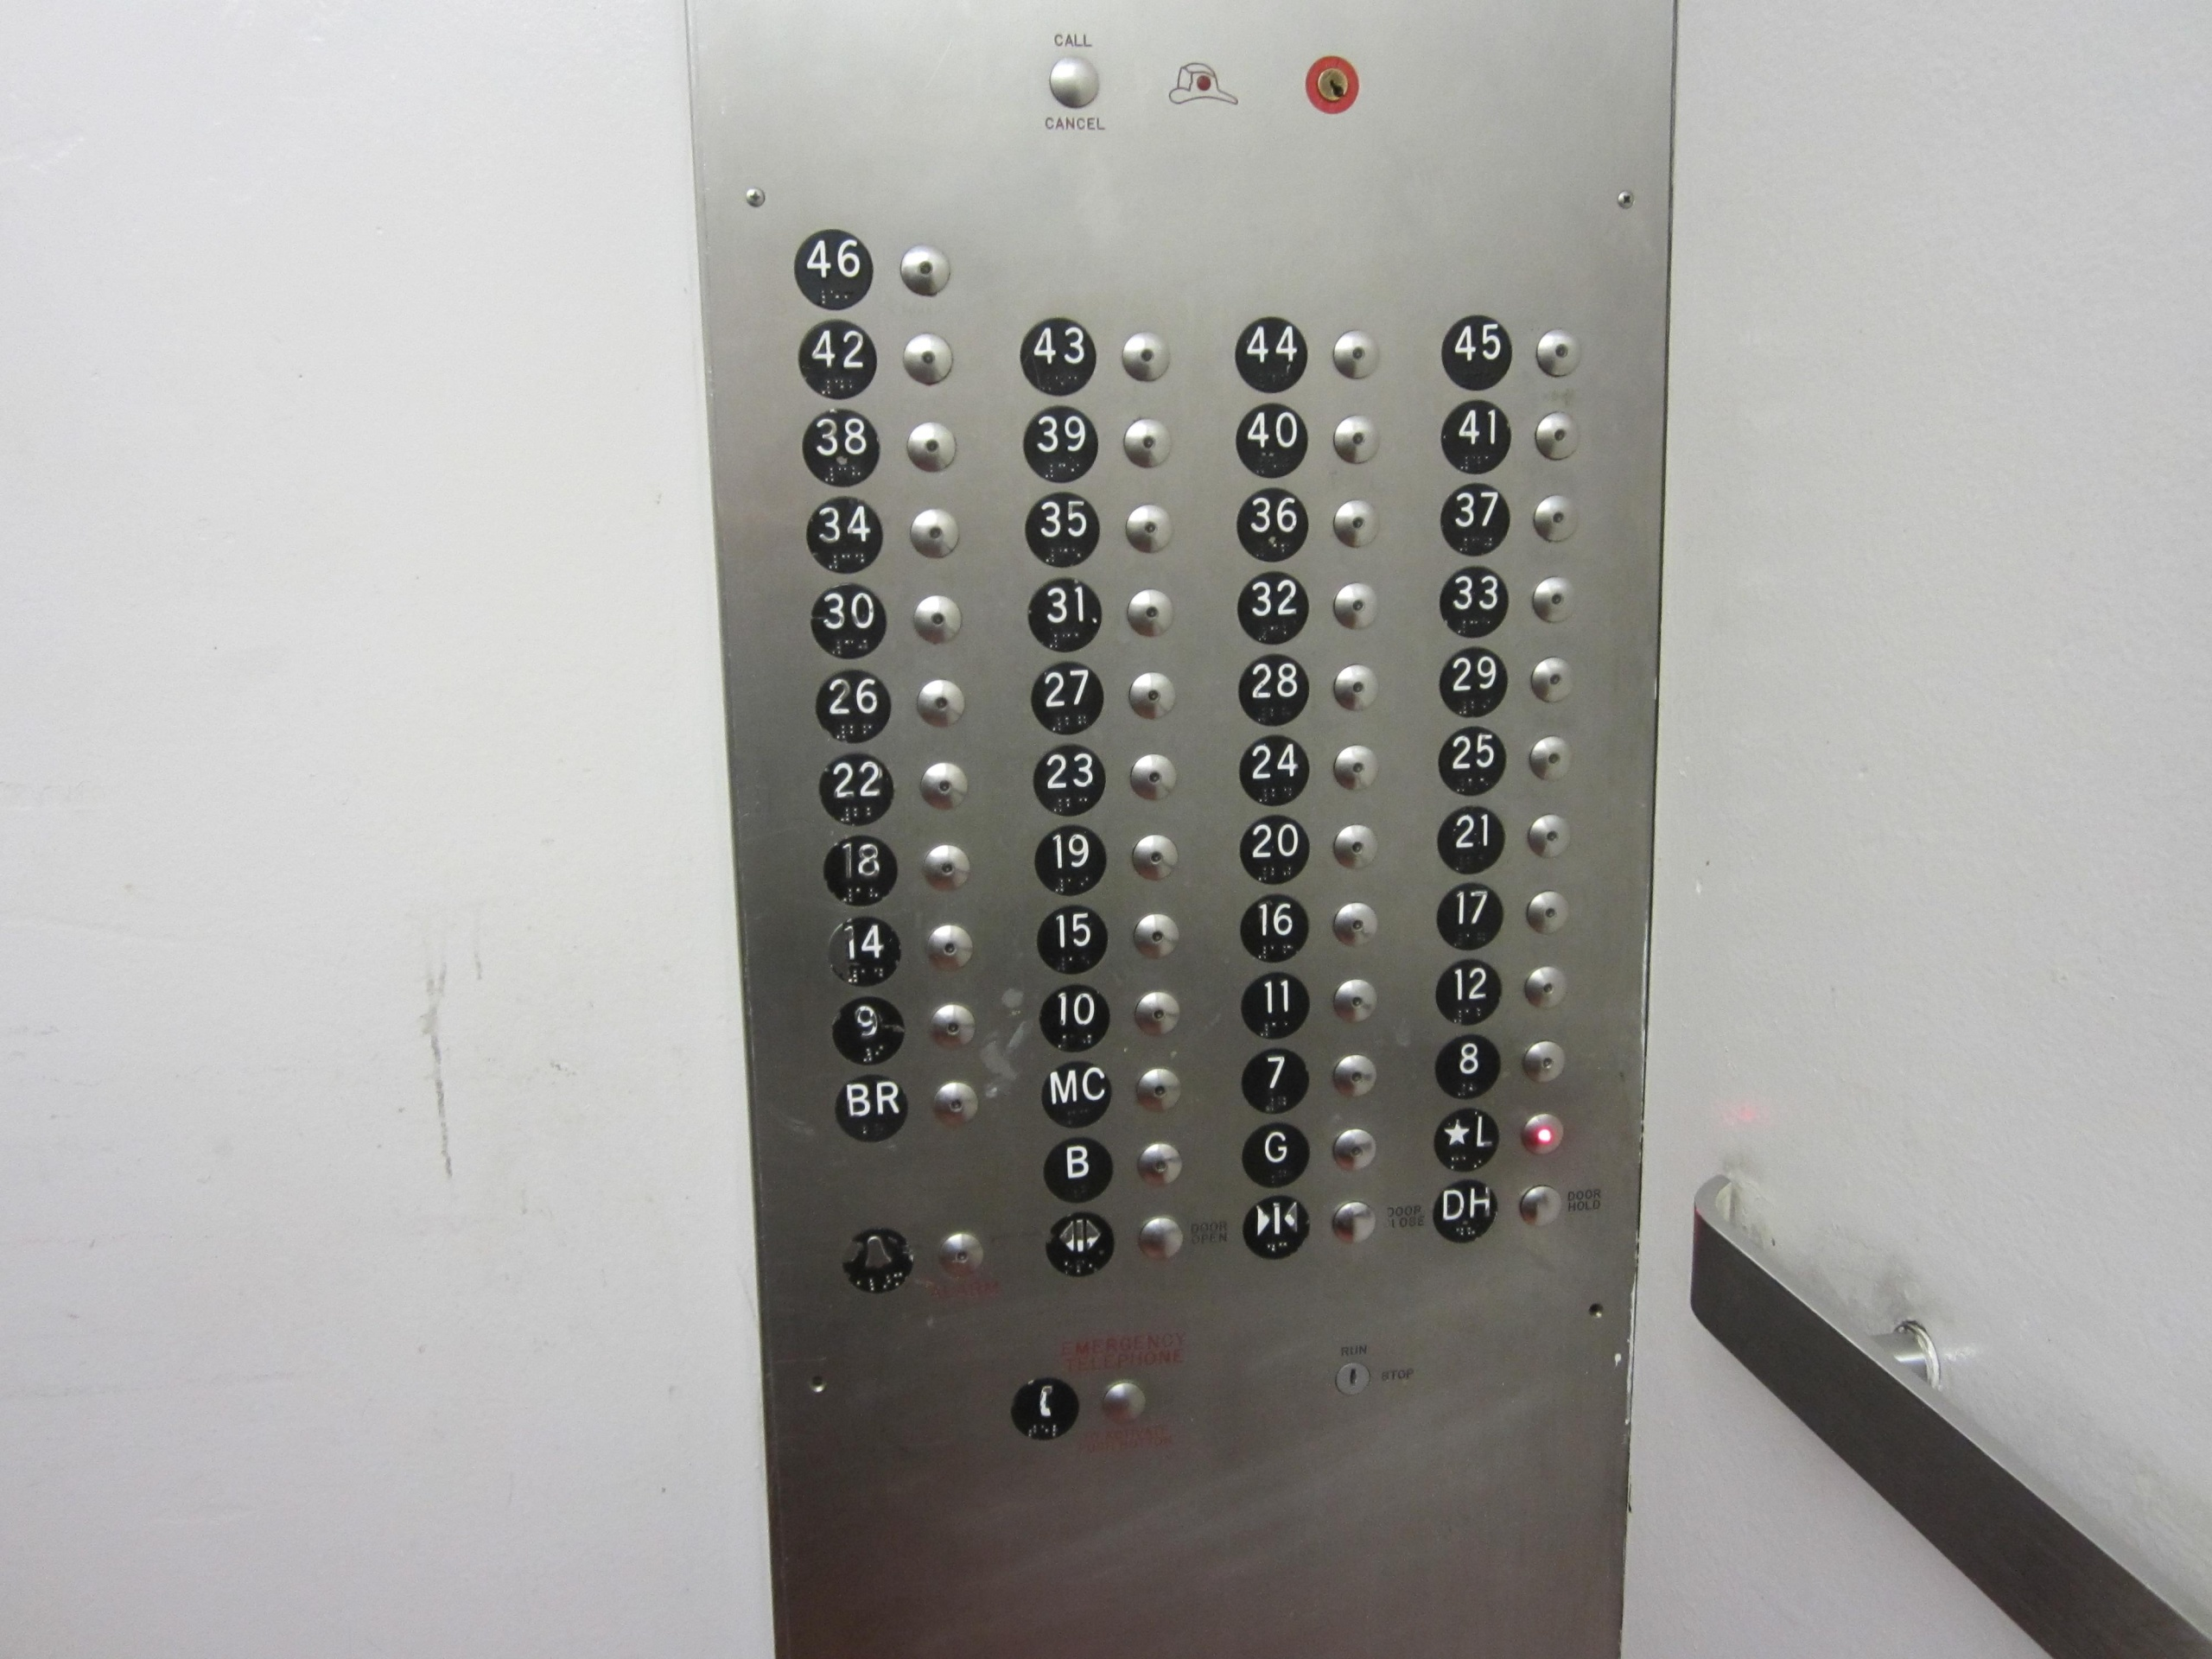10: (1036, 979, 1111, 1054)
11: (1238, 969, 1312, 1039)
12: (1435, 957, 1505, 1028)
14: (824, 913, 902, 990)
15: (1035, 904, 1113, 976)
16: (1238, 890, 1313, 962)
17: (1435, 880, 1507, 951)
18: (824, 833, 900, 908)
19: (1035, 824, 1109, 901)
20: (1238, 816, 1313, 887)
21: (1435, 803, 1508, 877)
22: (819, 751, 895, 828)
23: (1029, 741, 1106, 817)
24: (1237, 734, 1313, 810)
25: (1437, 725, 1508, 796)
26: (813, 667, 894, 746)
27: (1029, 659, 1104, 735)
28: (1237, 652, 1310, 728)
29: (1439, 645, 1508, 720)
30: (808, 584, 887, 660)
31: (1028, 575, 1103, 653)
32: (1238, 570, 1308, 645)
33: (1437, 563, 1512, 638)
34: (805, 497, 883, 575)
35: (1024, 491, 1103, 568)
36: (1237, 488, 1310, 563)
37: (1437, 479, 1512, 558)
38: (798, 406, 885, 491)
39: (1019, 403, 1101, 486)
40: (1231, 401, 1312, 481)
41: (1439, 396, 1514, 477)
42: (794, 314, 880, 403)
43: (1015, 312, 1099, 401)
44: (1230, 314, 1312, 394)
45: (1440, 315, 1514, 392)
46: (789, 221, 878, 315)
7: (1238, 1046, 1310, 1115)
8: (1432, 1030, 1505, 1105)
9: (829, 992, 907, 1065)
B: (1038, 1134, 1118, 1204)
BR: (836, 1072, 909, 1141)
DH: (1432, 1178, 1500, 1244)
G: (1242, 1121, 1313, 1187)
MC: (1040, 1060, 1113, 1129)
alarm: (841, 1223, 918, 1293)
call: (1005, 1371, 1083, 1446)
close: (1238, 1192, 1313, 1262)
indicator: (894, 239, 953, 301), (899, 328, 958, 389), (1329, 734, 1386, 796), (1327, 579, 1386, 638), (1047, 51, 1104, 112), (1329, 491, 1385, 554), (1329, 897, 1386, 957), (1526, 568, 1583, 627), (1533, 406, 1585, 471), (1118, 328, 1176, 385), (1125, 586, 1181, 645), (1533, 321, 1585, 383), (1329, 322, 1385, 380), (1529, 491, 1583, 551), (916, 843, 977, 896), (1522, 728, 1575, 789), (1331, 410, 1385, 467), (1331, 972, 1385, 1030), (1122, 415, 1174, 474), (904, 416, 958, 472), (909, 505, 963, 561), (1125, 753, 1181, 807), (1134, 1063, 1186, 1121), (1524, 803, 1576, 861), (1526, 650, 1578, 708), (1325, 1199, 1385, 1249), (1130, 829, 1184, 884), (918, 760, 970, 816), (1331, 1051, 1381, 1108), (911, 594, 965, 647), (932, 1077, 984, 1131), (1134, 988, 1186, 1042), (1332, 1122, 1385, 1176), (928, 999, 979, 1054), (1331, 664, 1381, 720), (1134, 1140, 1186, 1192), (1125, 504, 1176, 558), (913, 678, 965, 728), (1125, 669, 1176, 720), (1132, 911, 1181, 964), (1137, 1213, 1186, 1265), (939, 1229, 988, 1279), (927, 924, 974, 976), (1332, 823, 1379, 875), (1517, 1180, 1566, 1229), (1522, 1107, 1566, 1161), (1521, 962, 1569, 1007), (1524, 1033, 1566, 1086), (1527, 889, 1571, 936), (1103, 1384, 1148, 1427)
keyhole: (1306, 58, 1359, 113), (1332, 1358, 1374, 1398)
open: (1043, 1211, 1118, 1279)
sL: (1428, 1108, 1505, 1173)
